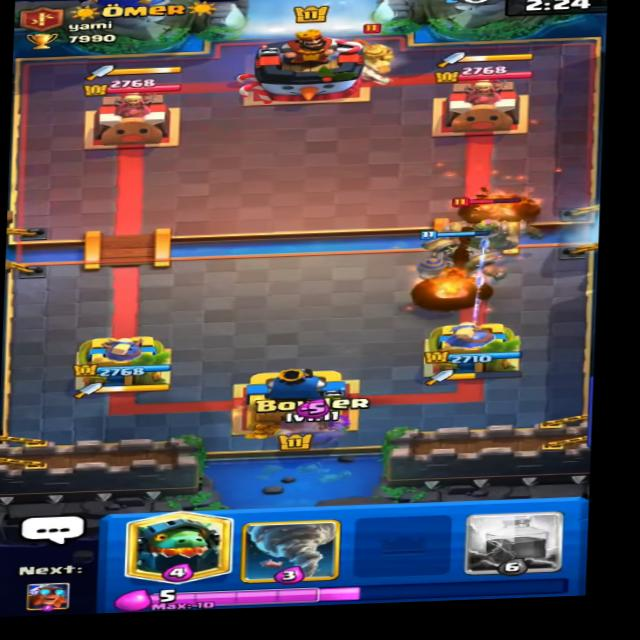goblin-machine: (438, 183, 541, 259)
prince: (343, 24, 407, 87)
